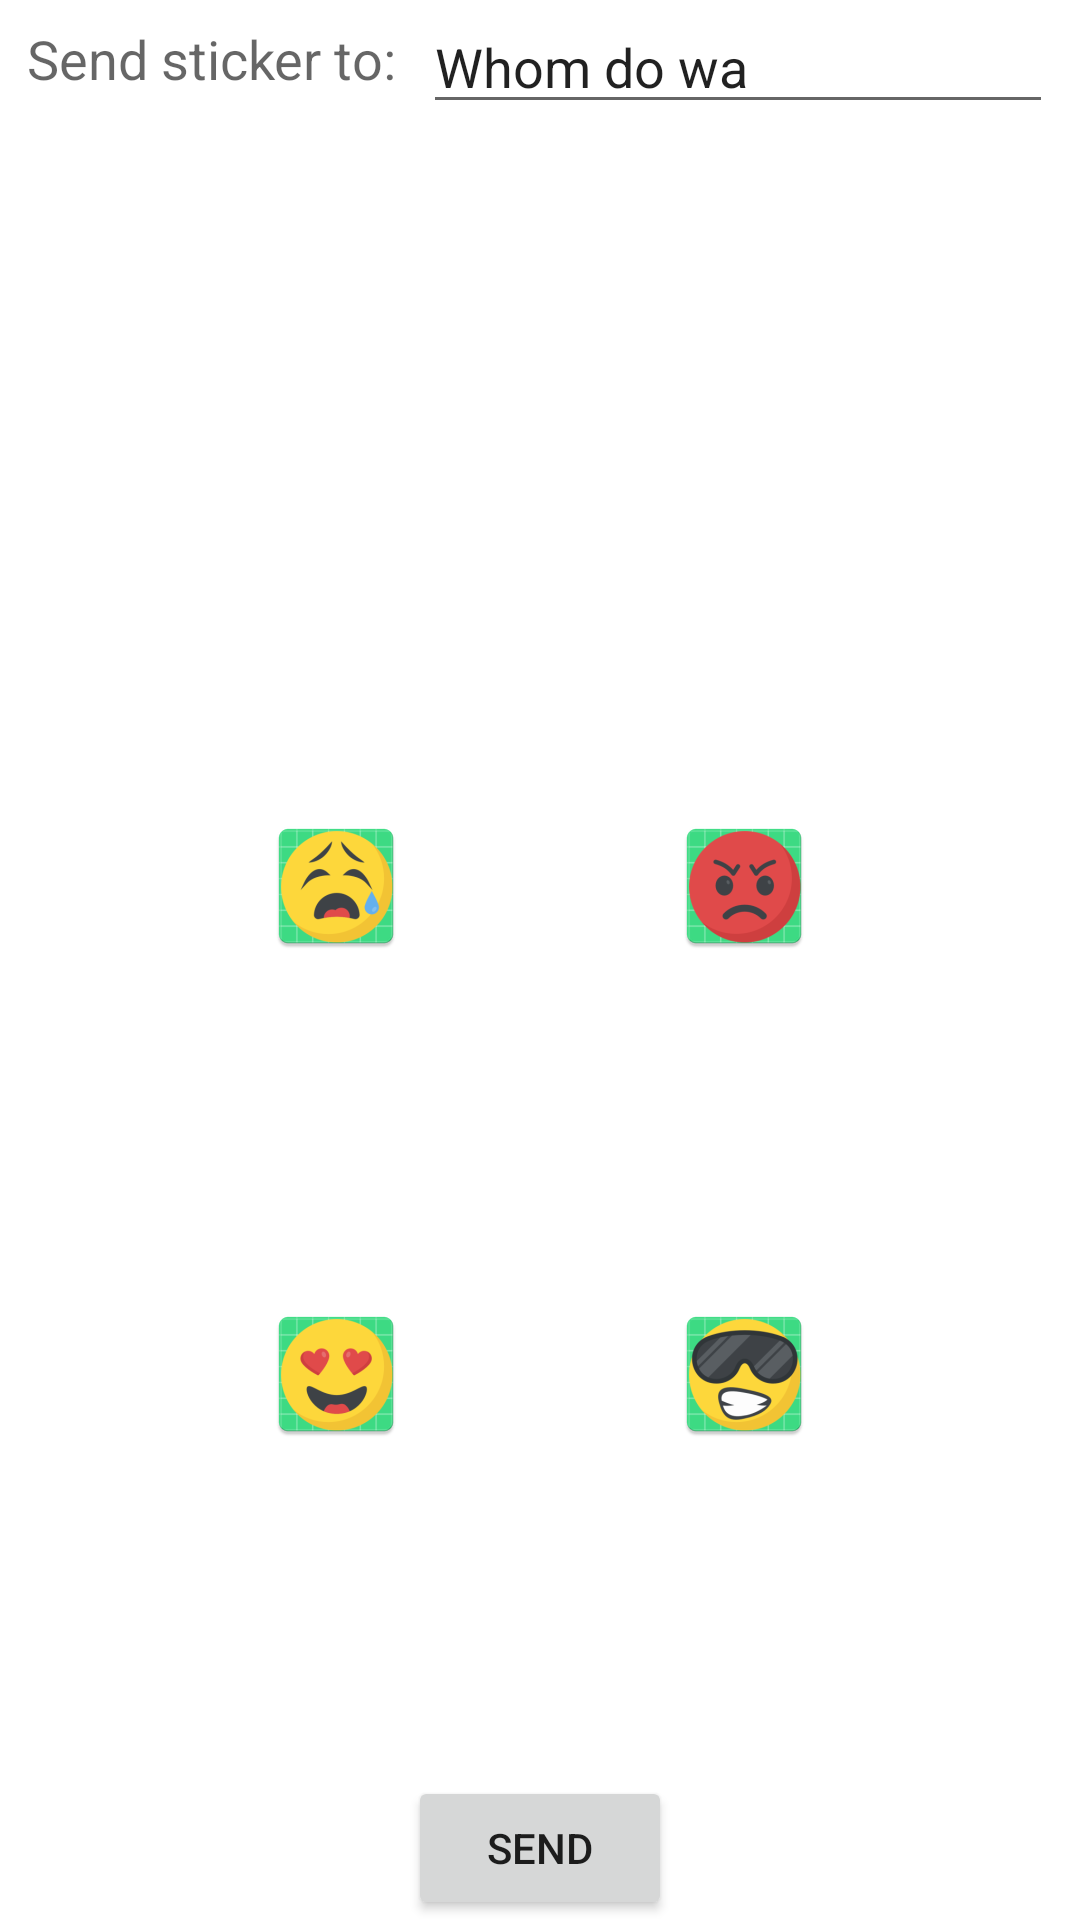

Screen size 1080x1920. Icon name, then its box in pixels as [x1, y1, x2, y2]:
emoji angry: [686, 828, 802, 947]
emoji cool: [686, 1316, 802, 1435]
emoji love: [278, 1316, 394, 1435]
emoji sad: [278, 828, 394, 947]
